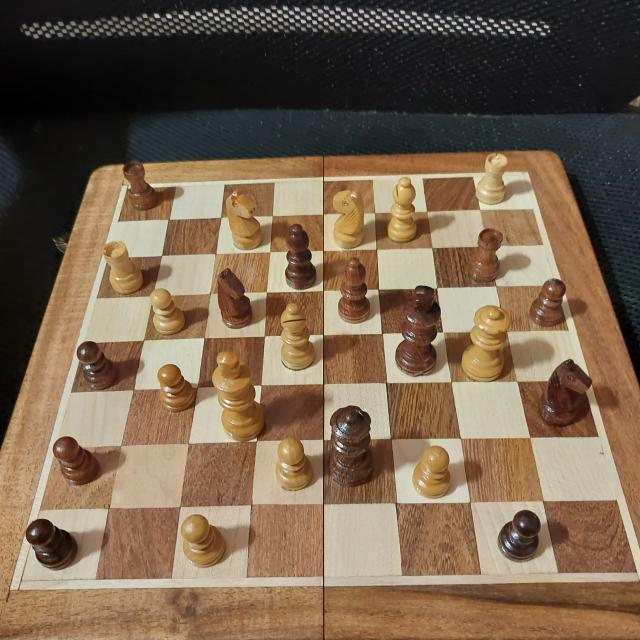black-camel: (276, 219, 318, 285), (332, 256, 374, 322)
black-elephant: (113, 159, 167, 213), (468, 223, 507, 283)
black-horse: (540, 351, 600, 434), (210, 264, 256, 330)
black-king: (396, 282, 454, 372)
black-pawn: (18, 514, 80, 573), (498, 504, 544, 564), (75, 338, 122, 392), (52, 431, 94, 488), (532, 275, 570, 333)
black-queen: (328, 400, 384, 498)
white-camel: (278, 301, 316, 376), (387, 172, 423, 242)
white-elephant: (100, 238, 142, 298), (475, 150, 513, 203)
white-horse: (221, 190, 267, 248), (330, 187, 368, 245)
white-king: (210, 350, 268, 443)
white-pawn: (178, 510, 232, 572), (408, 441, 459, 502), (266, 442, 316, 495), (144, 287, 190, 333), (156, 366, 196, 410)
white-queen: (458, 297, 514, 379)
